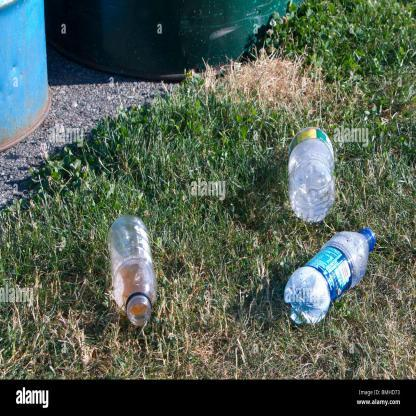bottle: (277, 224, 383, 346), (91, 178, 164, 354), (292, 113, 330, 226)
